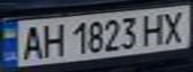1: (66, 19, 90, 55)
2: (103, 16, 124, 52)
3: (118, 13, 142, 51)
8: (84, 18, 106, 54)
A: (18, 22, 48, 61)
H: (36, 20, 66, 58), (139, 11, 169, 46)
X: (157, 8, 190, 45)
